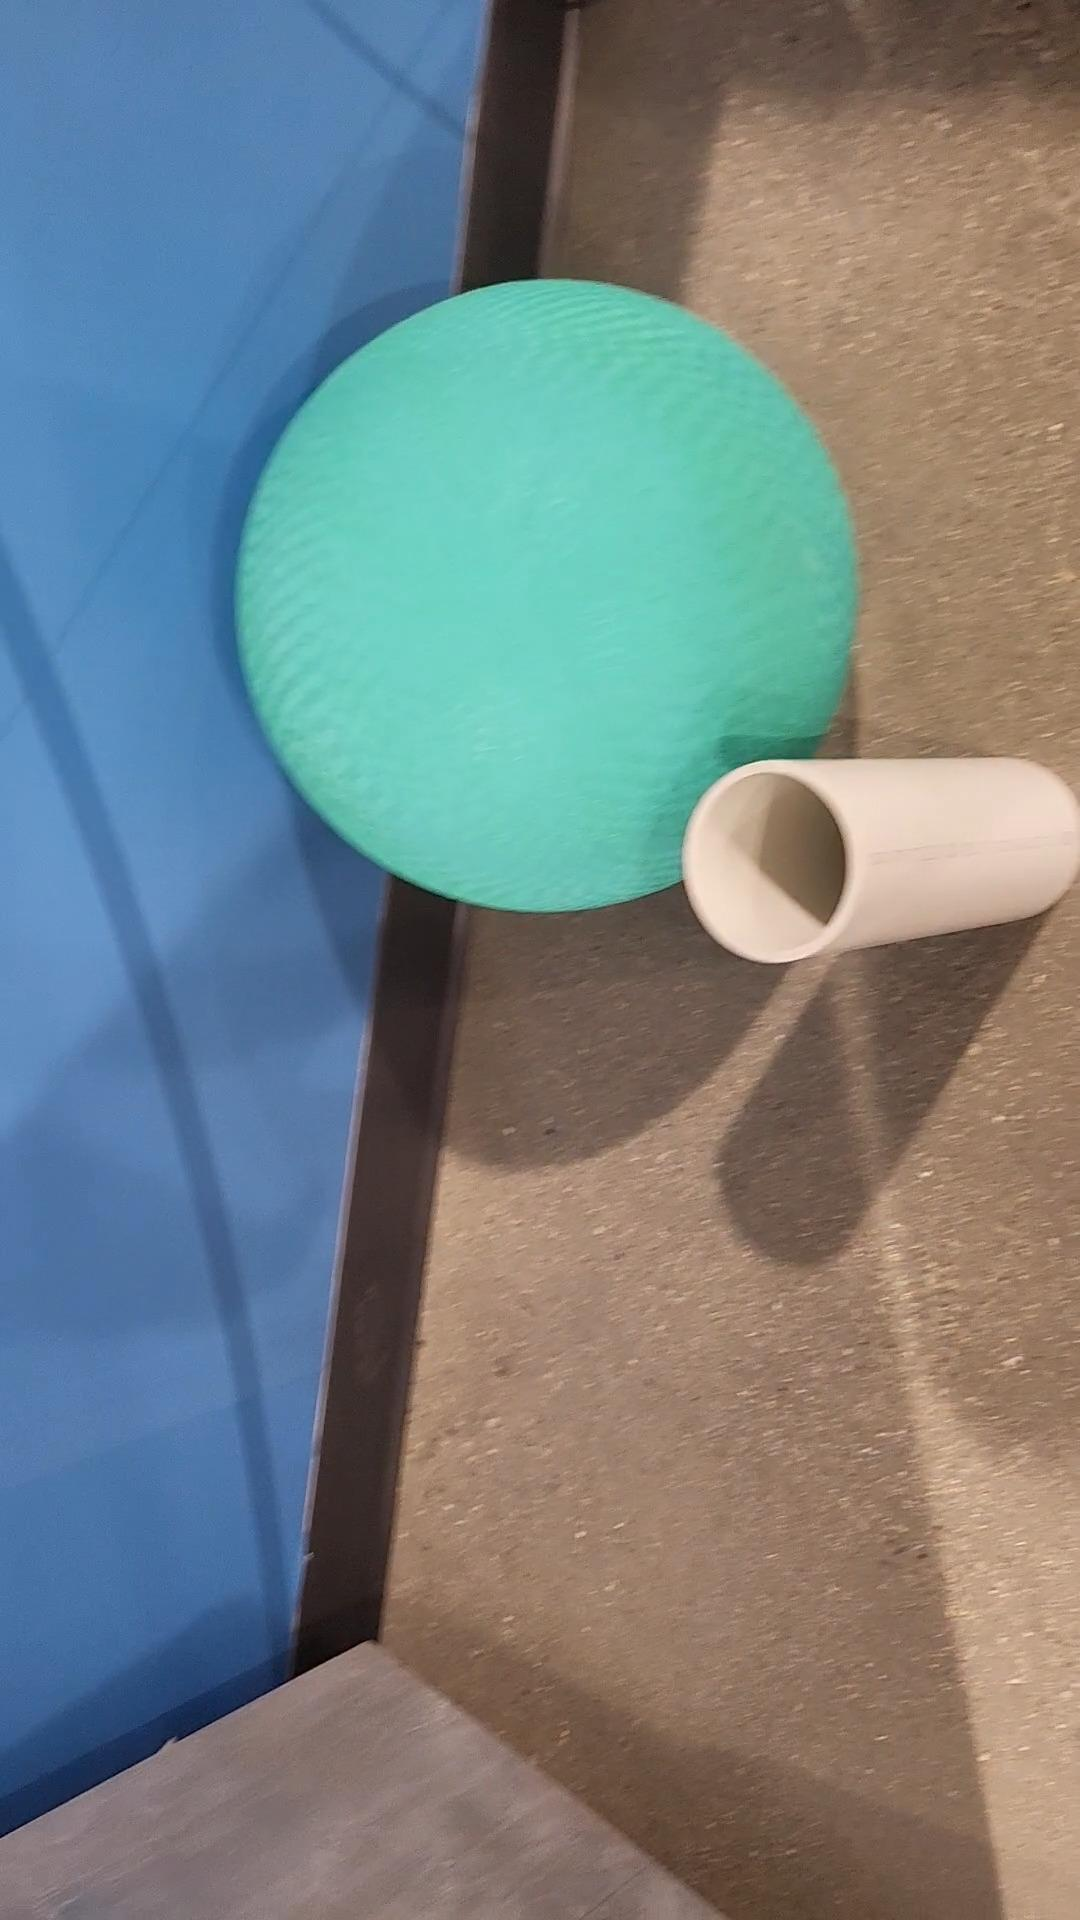algae: (243, 280, 852, 913)
coral: (683, 748, 1080, 963)
